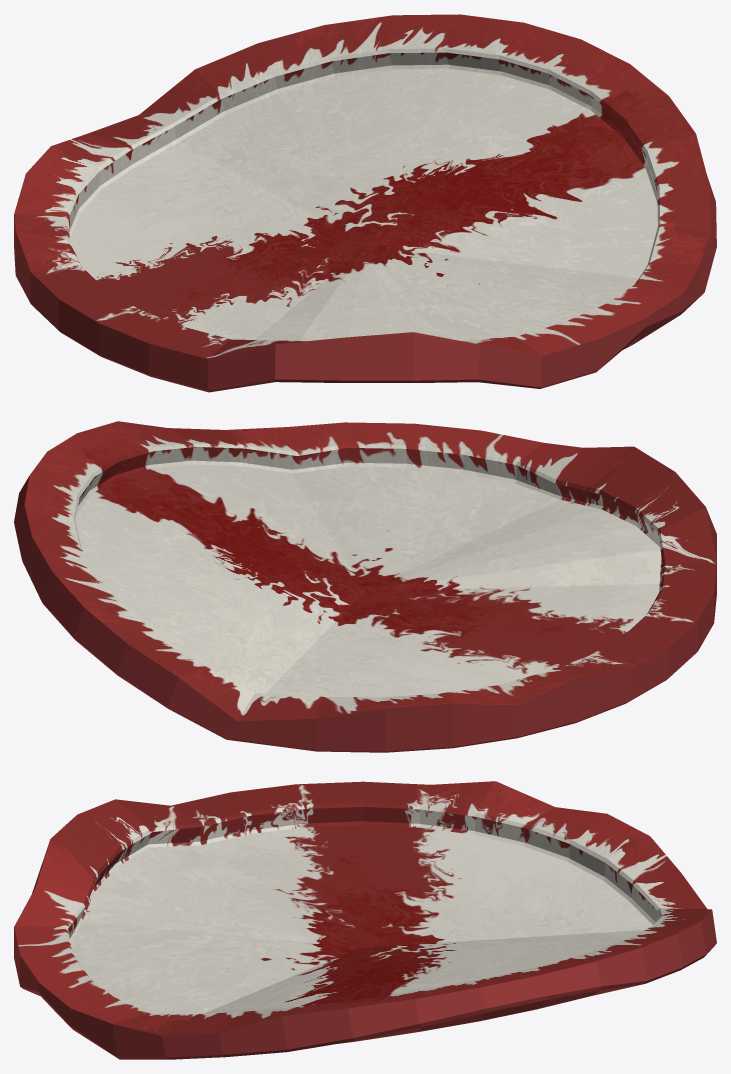
The picture shows the model from 3 angles, top to bottom: view 1: azimuth 30°, elevation 25°; view 2: azimuth 150°, elevation 25°; view 3: azimuth 270°, elevation 25°; orthographic projection. The views are drawn at different scales.
Visible parts, largest first — view 1: Cylinder.087; view 2: Cylinder.087; view 3: Cylinder.087.
Part boxes in pixels (left/top/right/bottom): Cylinder.087: left=14, top=14, right=716, bottom=392; Cylinder.087: left=14, top=421, right=716, bottom=752; Cylinder.087: left=14, top=781, right=716, bottom=1059.
Size of the model in its own units: 199 by 33.81 by 203.
3 materials, 1 textured.
